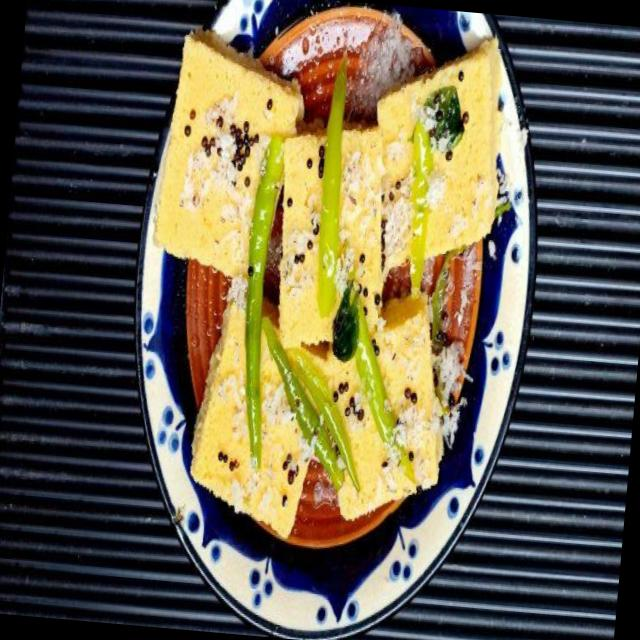dhokla: (135, 0, 508, 546)
